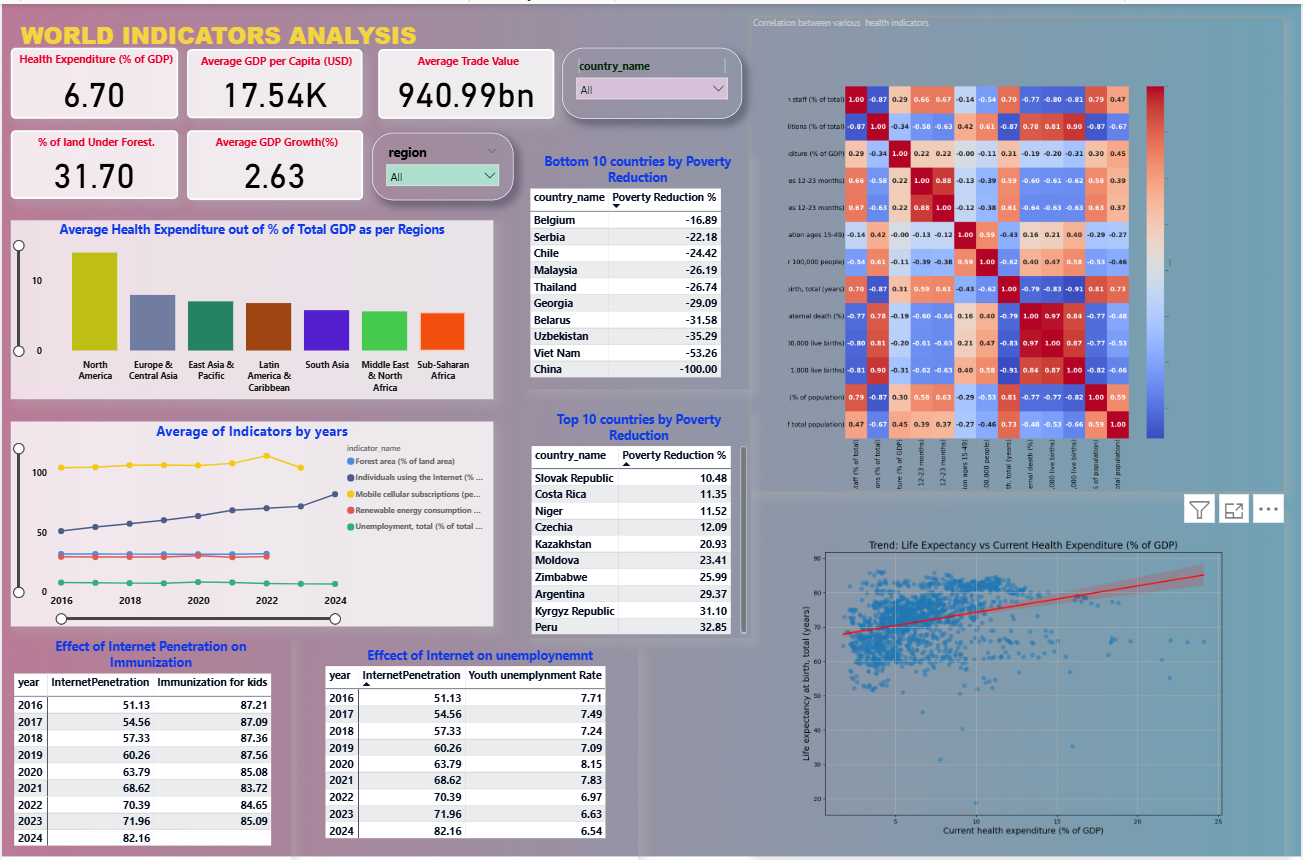

This screenshot's page, from the dashboard's own definition file:
{"tool":"powerbi","page":{"name":"Page 1","canvas":[1800,1200],"ordinal":0},"visuals":[{"type":"card","title":"Average  GDP per Capita (USD)","fields":{"Values":["Avg(economic.value)"]},"box":[255.8,63.1,243.6,96.4],"z":0},{"type":"card","title":"Average Trade Value","fields":{"Values":["Measure Table.Average Trade Value"]},"box":[521.4,62.4,244.2,97],"z":1000},{"type":"card","title":"Health Expenditure (% of GDP)","fields":{"Values":["Avg(health.value)"]},"box":[12.1,60.6,232.1,98.7],"z":2000},{"type":"card","title":"Average  GDP Growth(%)","fields":{"Values":["Avg(economic.value)"]},"box":[256.4,174.9,244.2,97],"z":3000},{"type":"card","title":"% of land Under Forest.","fields":{"Values":["Avg(environment.value)"]},"box":[12.1,174.9,232.1,95.3],"z":4000},{"type":"slicer","fields":{"Values":["poverty.region"]},"box":[512.7,178.4,195.7,93.5],"z":5000},{"type":"lineChart","title":"Average of Indicators by years","fields":{"Category":["Line Chart.year"],"Y":["Avg(Line Chart.value)"],"Series":["Line Chart.indicator_name"]},"box":[12.1,578.5,668.6,284.1],"z":6000},{"type":"pivotTable","title":"Effcect of Internet on unemploynemnt","fields":{"Rows":["Scatter plot.year"],"Values":["Scatter plot.InternetPenetration","Scatter plot.Youth unemplynment Rate"]},"box":[443.4,890.3,438.2,301.4],"z":7000},{"type":"clusteredColumnChart","title":"Average Health Expenditure out of  % of Total GDP as per Regions","fields":{"Category":["health.region"],"Y":["Avg(health.value)"]},"box":[12.1,299.7,668.6,247.7],"z":8000},{"type":"textbox","box":[0,16.2,600.5,58.8],"z":9000},{"type":"pythonVisual","fields":{"Values":["health.country_name","health.value","health.year","health.indicator_name"]},"box":[1035.5,698.6,741.2,482.3],"z":10000},{"type":"pythonVisual","title":"Correlation between various  health indicators","fields":{"Values":["health.year","health.indicator_name","health.value","health.country_name"]},"box":[1035.5,17.7,741.2,659.6],"z":11000},{"type":"tableEx","title":"Top 10 countries by  Poverty Reduction","fields":{"Values":["poverty.country_name","Measure Table.Poverty Reduction %"]},"box":[727.5,562.9,310,315.2],"z":12000},{"type":"tableEx","title":"Bottom 10 countries by Poverty Reduction","fields":{"Values":["poverty.country_name","Measure Table.Poverty Reduction %"]},"box":[725.8,206.1,310,327.4],"z":13000},{"type":"pivotTable","title":"Effect of Internet Penetration on Immunization","fields":{"Rows":["Scatter plot.year"],"Values":["Scatter plot.InternetPenetration","Scatter plot.Immunization for kids"]},"box":[12.1,878.2,388,313.5],"z":14000},{"type":"slicer","fields":{"Values":["economic.country_name"]},"box":[776,60.6,249.4,98.7],"z":14001}]}

Visuals, with their boxes in screenshot pixels (x1, y1, x2, y2), scaled from the page's 1800x1200 canvas onto the 1303x860 screenshot:
"Average  GDP per Capita (USD)" card: <box>185,45,362,114</box>
"Average Trade Value" card: <box>377,45,554,114</box>
"Health Expenditure (% of GDP)" card: <box>9,43,177,114</box>
"Average  GDP Growth(%)" card: <box>186,125,362,195</box>
"% of land Under Forest." card: <box>9,125,177,194</box>
slicer - poverty.region: <box>371,128,513,195</box>
"Average of Indicators by years" lineChart: <box>9,415,493,618</box>
"Effcect of Internet on unemploynemnt" pivotTable: <box>321,638,638,854</box>
"Average Health Expenditure out of  % of Total GDP as per Regions" clusteredColumnChart: <box>9,215,493,392</box>
textbox: <box>0,12,435,54</box>
pythonVisual - health.country_name x health.value: <box>750,501,1286,846</box>
"Correlation between various  health indicators" pythonVisual: <box>750,13,1286,485</box>
"Top 10 countries by  Poverty Reduction" tableEx: <box>527,403,751,629</box>
"Bottom 10 countries by Poverty Reduction" tableEx: <box>525,148,750,382</box>
"Effect of Internet Penetration on Immunization" pivotTable: <box>9,629,290,854</box>
slicer - economic.country_name: <box>562,43,742,114</box>
